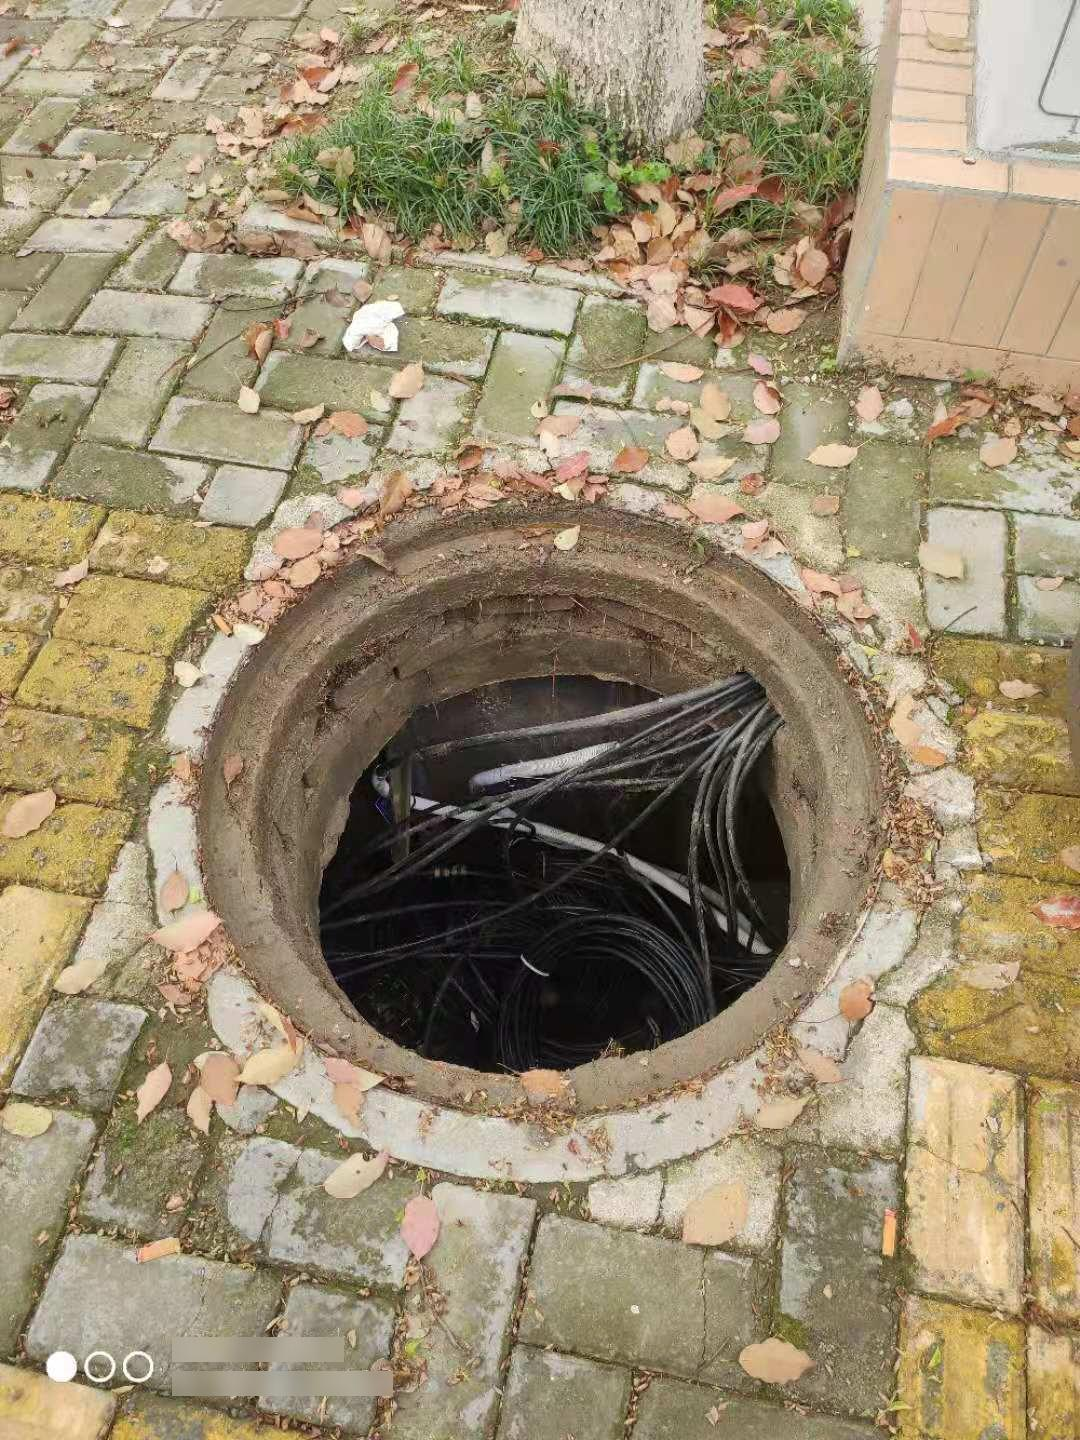wellcover: (77, 447, 986, 1180)
